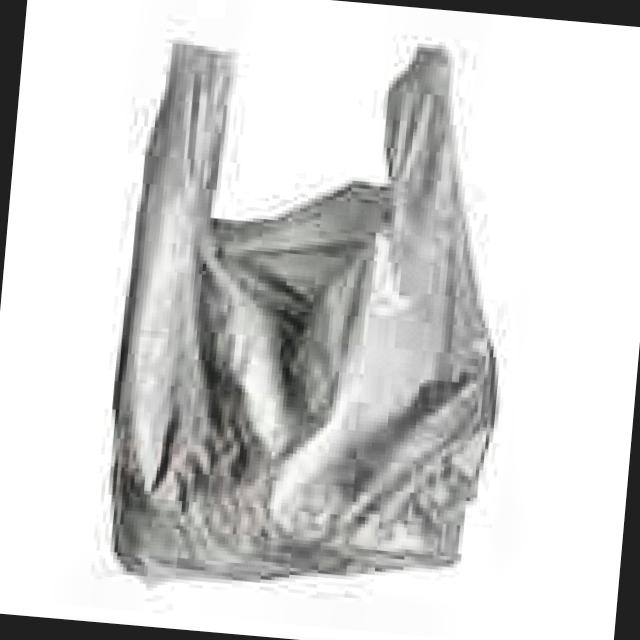plastic bag: (111, 47, 496, 579)
